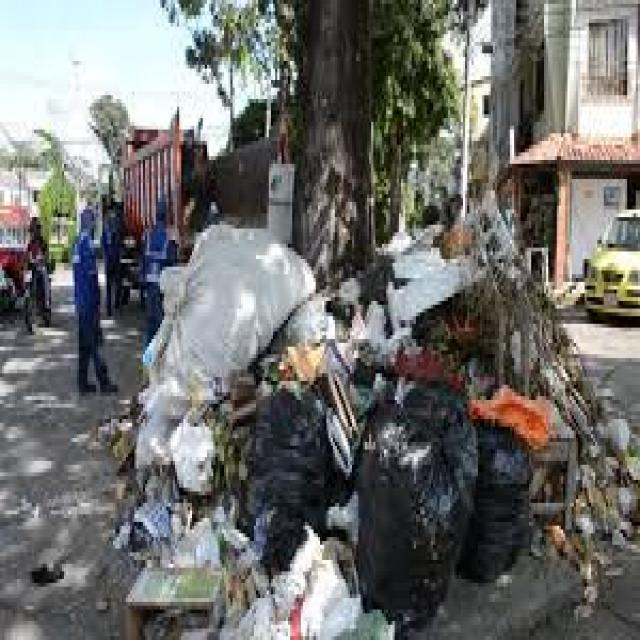garbage: (113, 216, 358, 640), (358, 366, 544, 634)
